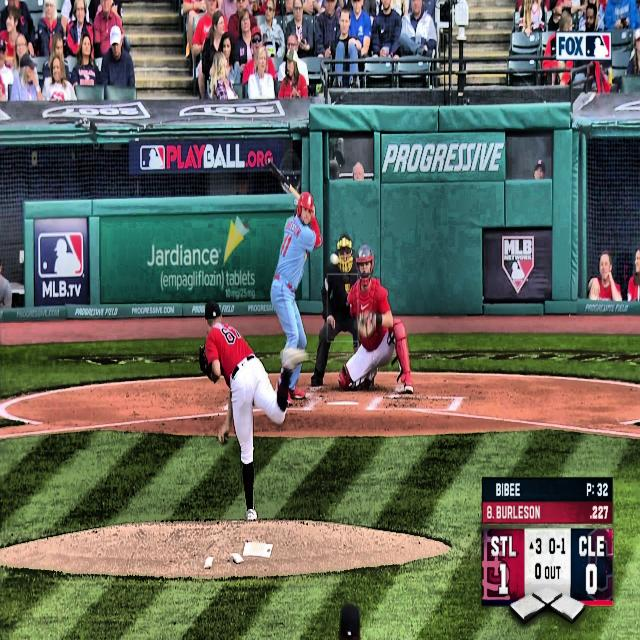baseball: (330, 252, 339, 266)
